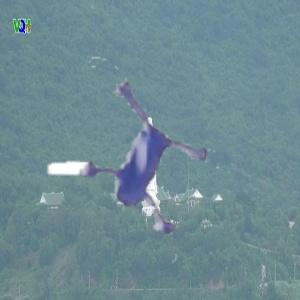drone: (11, 48, 234, 271)
